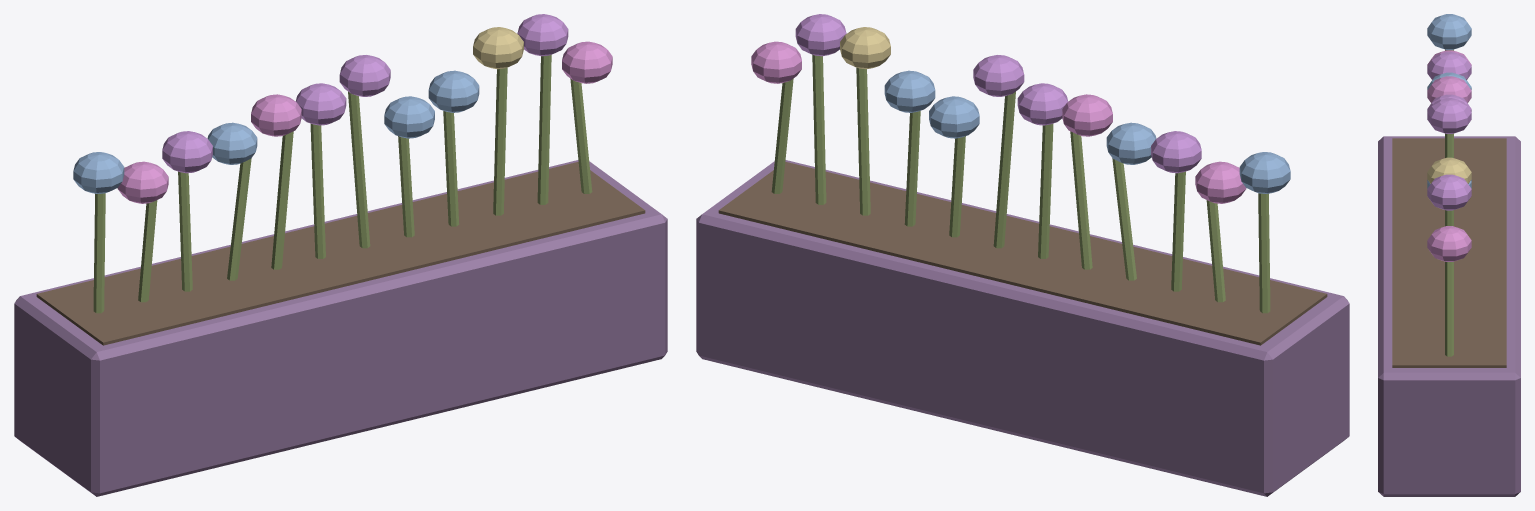
File: FlowerWindowBox.fbx
The picture shows the model from 3 angles, left to right: view 1: azimuth 30°, elevation 25°; view 2: azimuth 150°, elevation 25°; view 3: azimuth 270°, elevation 25°; orthographic projection. The views are drawn at different scales.
Parts seen in each view (by area): view 1: Prop_FlowerWindowBox; view 2: Prop_FlowerWindowBox; view 3: Prop_FlowerWindowBox.
Part boxes in pixels (left/top/right/bottom): Prop_FlowerWindowBox: left=14, top=14, right=667, bottom=496; Prop_FlowerWindowBox: left=696, top=14, right=1349, bottom=496; Prop_FlowerWindowBox: left=1378, top=14, right=1520, bottom=496.
Size of the model in its own units: 1 by 0.5571 by 0.25.
